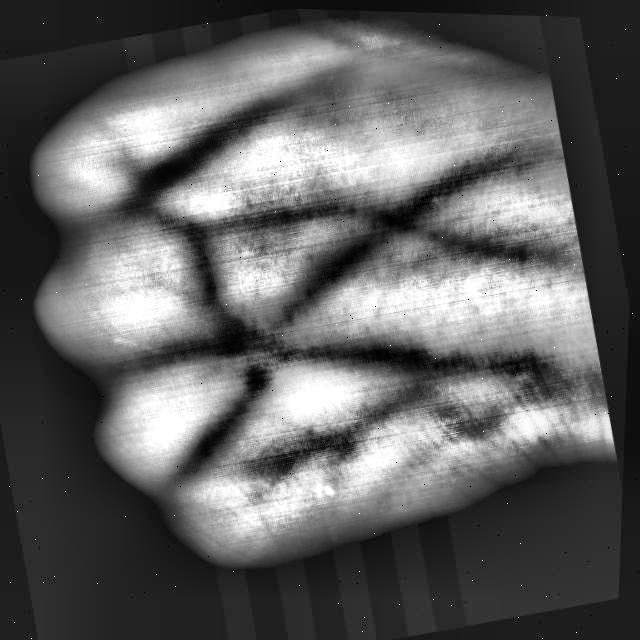Vein: (301, 134, 511, 298), (289, 328, 544, 387)
